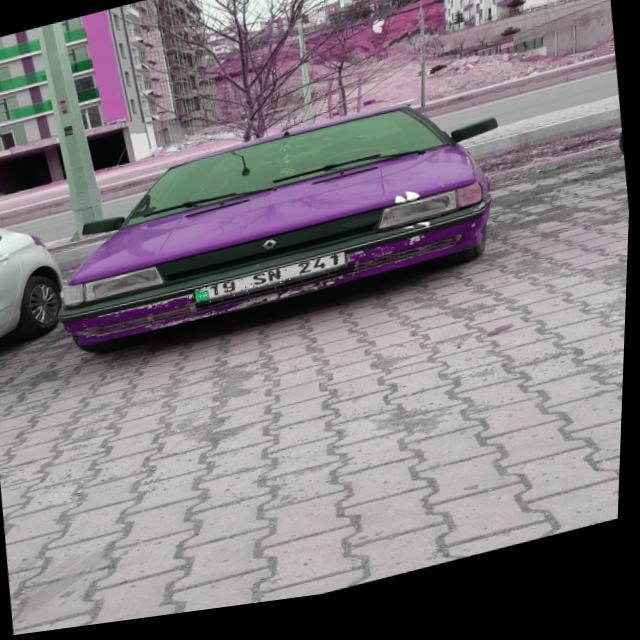license_plate: (196, 261, 350, 311)
